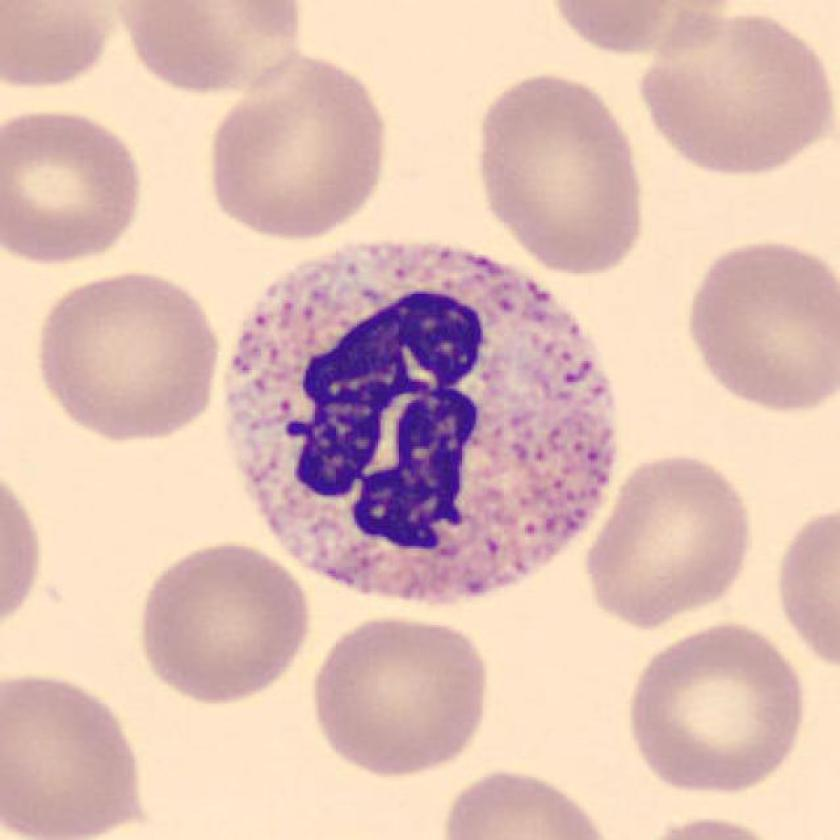neutrophil: (224, 240, 615, 598)
